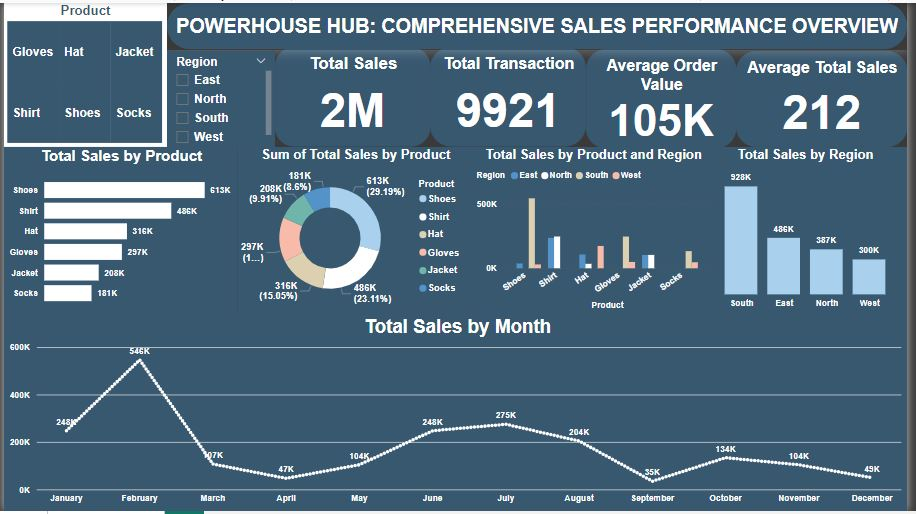

This screenshot's page, from the dashboard's own definition file:
{"tool":"powerbi","page":{"name":"SalesData","canvas":[1280,720],"ordinal":0},"visuals":[{"type":"card","title":"Total Sales","fields":{"Values":["Sum(SalesData.Total Sales)"]},"box":[383.9,62.8,219.8,141.3],"z":0},{"type":"card","title":"Average Order Value","fields":{"Values":["SalesData.Average Order Value"]},"box":[824.8,65.6,212.6,141.3],"z":1000},{"type":"card","title":"Total Transaction","fields":{"Values":["SalesData.Total Transactions"]},"box":[603.6,62.8,221.2,141.3],"z":2000},{"type":"lineChart","title":" Total Sales by Month","fields":{"Category":["SalesData.OrderDate.Variation.Date Hierarchy.Month"],"Y":["Sum(SalesData.Total Sales)"]},"box":[0,440.9,1280,279.7],"z":3000},{"type":"barChart","title":"Total Sales by Product","fields":{"Category":["SalesData.Product"],"Y":["Sum(SalesData.Total Sales)"]},"box":[0,204.1,331.1,236.9],"z":4000},{"type":"card","title":"Average Total Sales","fields":{"Values":["Avg(SalesData.Total Sales)"]},"box":[1037.4,68.5,242.6,135.6],"z":5000},{"type":"shape","box":[231.2,0,1048.8,65.6],"z":6000},{"type":"columnChart","title":"Total Sales by Region","fields":{"Y":["Sum(SalesData.Total Sales)"],"Category":["SalesData.Region"]},"box":[991.8,204.1,288.2,236.9],"z":7000},{"type":"donutChart","fields":{"Y":["Sum(SalesData.Total Sales)"],"Category":["SalesData.Product"]},"box":[331.1,204.1,333.9,236.9],"z":8000},{"type":"clusteredColumnChart","title":" Total Sales by Product and Region","fields":{"Category":["SalesData.Product"],"Series":["SalesData.Region"],"Y":["Sum(SalesData.Total Sales)"]},"box":[665,204.1,342.5,236.9],"z":9000},{"type":"advancedSlicerVisual","fields":{"Values":["SalesData.Product"]},"box":[0,0,231,204.1],"z":10000},{"type":"slicer","fields":{"Values":["SalesData.Region"]},"box":[231.2,68.5,152.7,135.6],"z":11000}]}

Visuals, with their boxes in screenshot pixels (x1, y1, x2, y2), scaled from the page's 1280x720 canvas onto the 916x514 screenshot:
"Total Sales" card: (left=275, top=45, right=432, bottom=146)
"Average Order Value" card: (left=590, top=47, right=742, bottom=148)
"Total Transaction" card: (left=432, top=45, right=590, bottom=146)
" Total Sales by Month" lineChart: (left=0, top=315, right=915, bottom=513)
"Total Sales by Product" barChart: (left=0, top=146, right=237, bottom=315)
"Average Total Sales" card: (left=742, top=49, right=915, bottom=146)
shape: (left=165, top=0, right=915, bottom=47)
"Total Sales by Region" columnChart: (left=710, top=146, right=915, bottom=315)
donutChart - Sum(SalesData.Total Sales) x SalesData.Product: (left=237, top=146, right=476, bottom=315)
" Total Sales by Product and Region" clusteredColumnChart: (left=476, top=146, right=721, bottom=315)
advancedSlicerVisual - SalesData.Product: (left=0, top=0, right=165, bottom=146)
slicer - SalesData.Region: (left=165, top=49, right=275, bottom=146)
